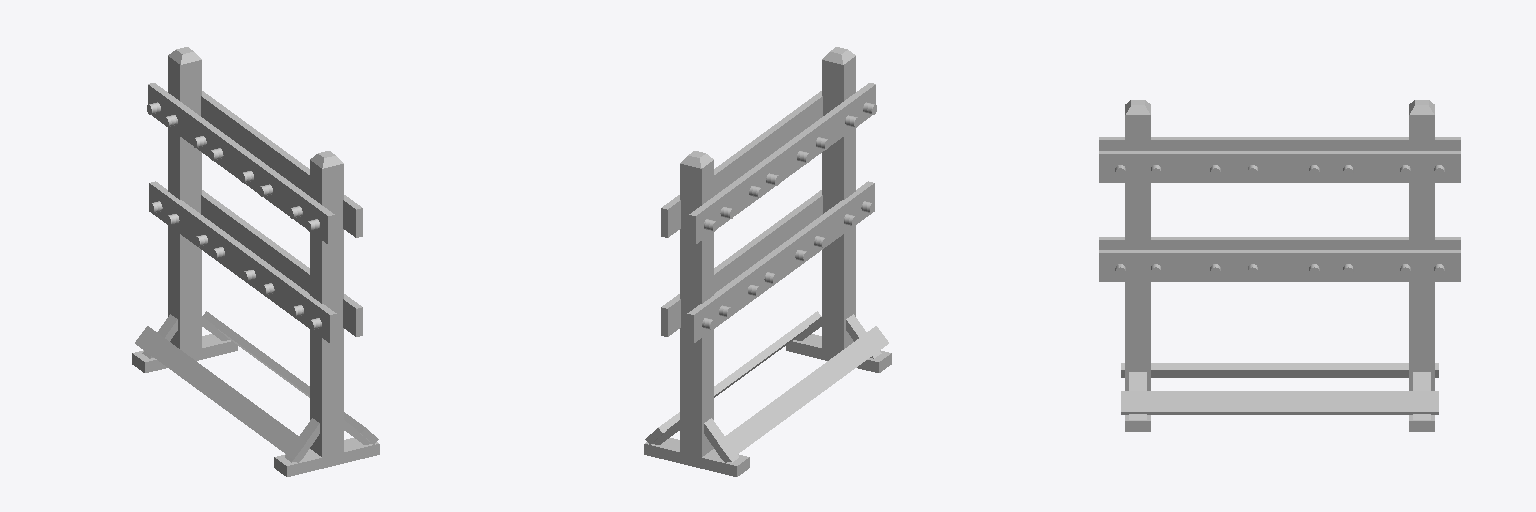
File: Estandes .obj
The picture shows the model from 3 angles: view 1: azimuth 30°, elevation 25°; view 2: azimuth 150°, elevation 25°; view 3: azimuth 270°, elevation 25°; orthographic projection.
Parts seen in each view (by area): view 1: Cube.008_Cube.013; view 2: Cube.008_Cube.013; view 3: Cube.008_Cube.013.
Part boxes in pixels (x1,y1,x2,y2): Cube.008_Cube.013: (132,47,379,476); Cube.008_Cube.013: (644,47,891,476); Cube.008_Cube.013: (1099,100,1460,431).
Bounding box in the file's own units: 0.3401 × 1.07 × 1.15.